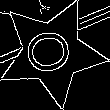O_E: (23, 27, 81, 78)
